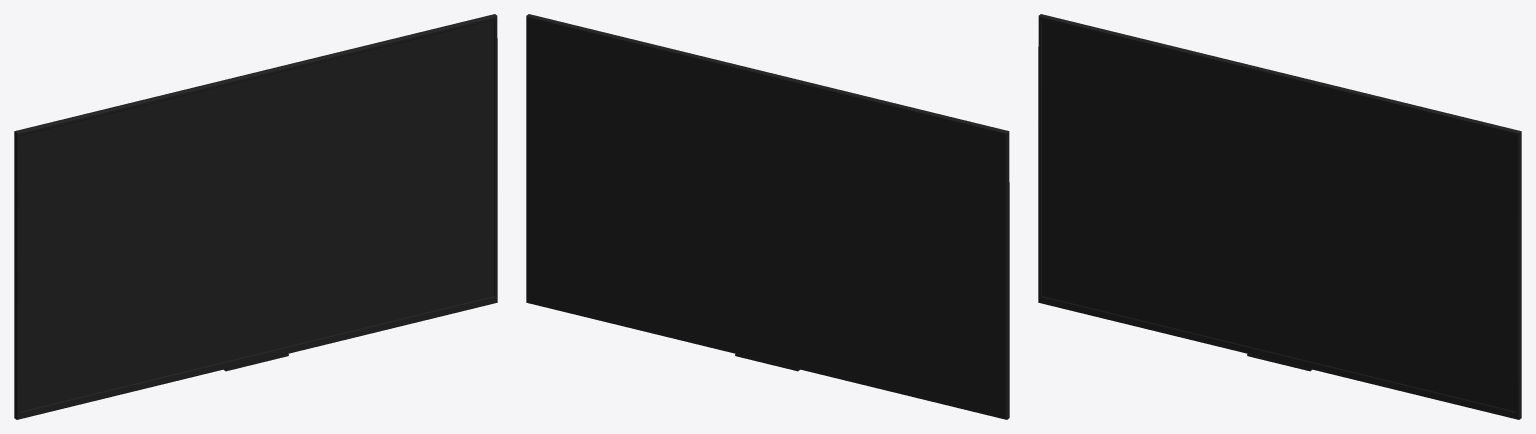
The picture shows the model from 3 angles, left to right: view 1: azimuth 30°, elevation 25°; view 2: azimuth 150°, elevation 25°; view 3: azimuth 330°, elevation 25°; orthographic projection.
Parts seen in each view (by area): view 1: tv; view 2: tv; view 3: tv.
Part boxes in pixels (x1,y1,x2,y2): tv: (14, 14, 497, 419); tv: (526, 14, 1009, 419); tv: (1038, 14, 1521, 419).
Bounding box in the file's own units: 170 × 97.66 × 1.93.
2 materials, 1 textured.
